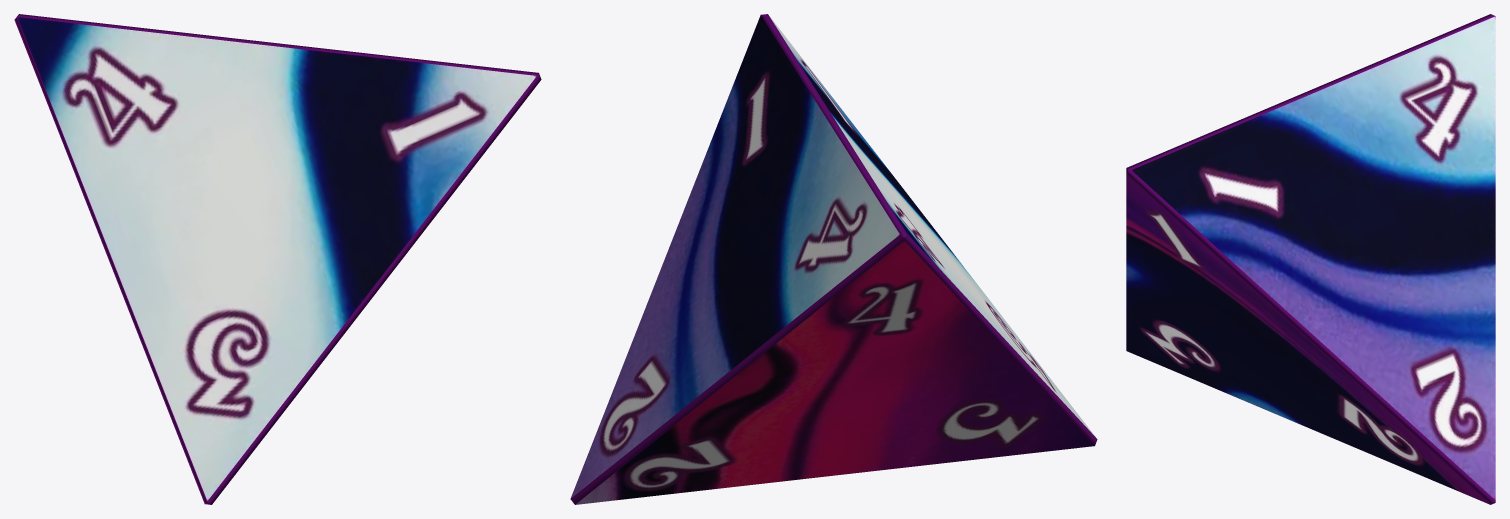
The model's file is parfait_d4.glb.
3 views of the same model, side by side, from view 1: azimuth 30°, elevation 25°; view 2: azimuth 150°, elevation 25°; view 3: azimuth 270°, elevation 25° (orthographic). The views are drawn at different scales.
Parts seen in each view (by area): view 1: Mesh_0; view 2: Mesh_0; view 3: Mesh_0.
Boxes of the visible parts, bbox=[...] form: Mesh_0: bbox=[14, 14, 541, 504]; Mesh_0: bbox=[570, 14, 1097, 504]; Mesh_0: bbox=[1126, 14, 1495, 504].
Size of the model in its own units: 135 by 135 by 135.
1 material, 1 textured.
